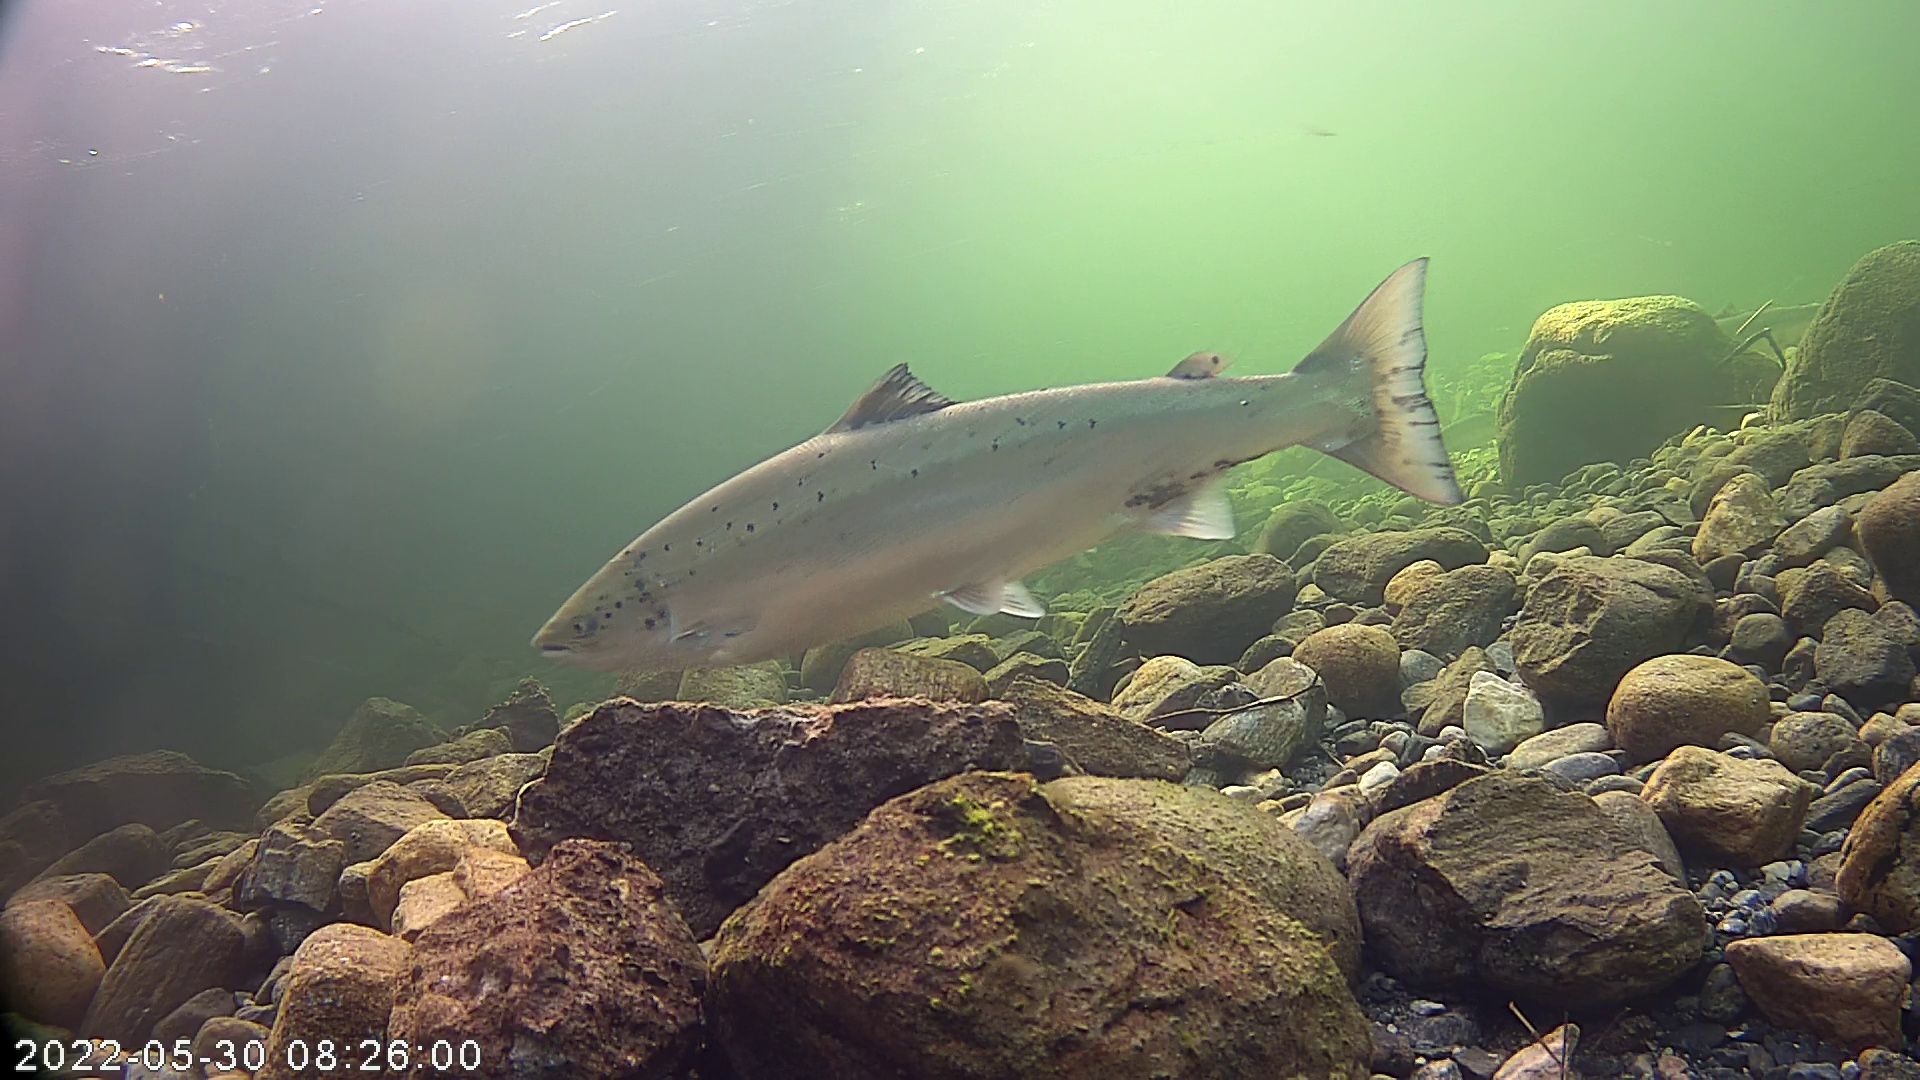salmon: (529, 252, 1468, 680)
